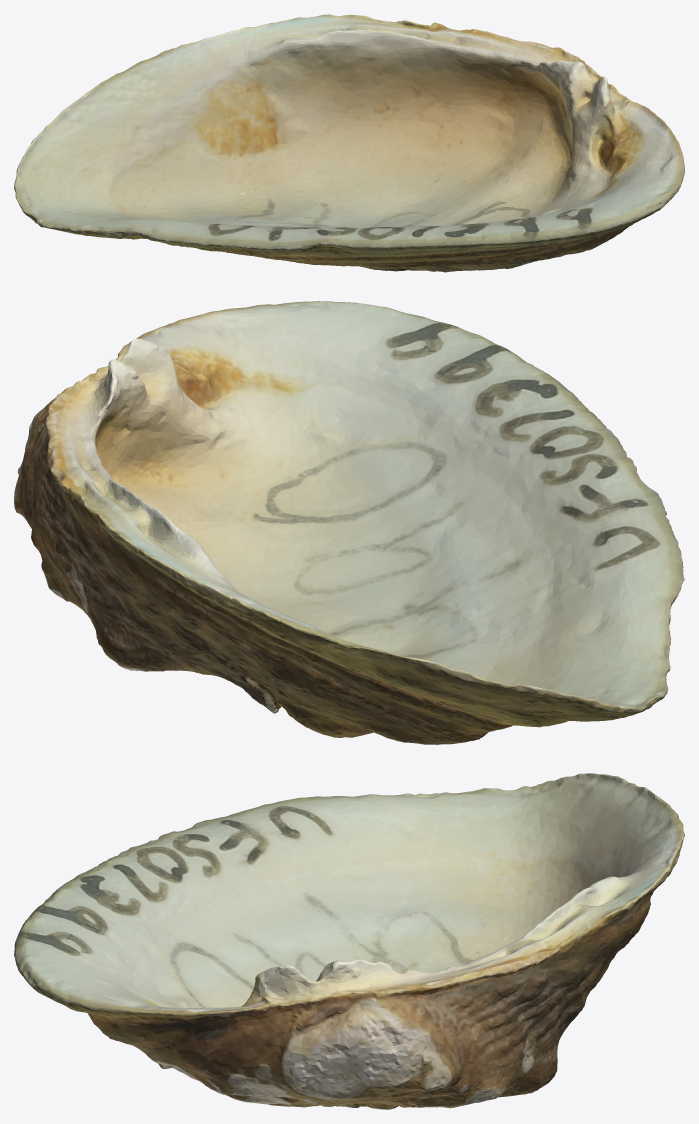
Rendered from UF_IZ_507399_object_reduced.obj.
3 views of the same model, one above another, from view 1: azimuth 30°, elevation 25°; view 2: azimuth 150°, elevation 25°; view 3: azimuth 270°, elevation 25° (orthographic). The views are drawn at different scales.
Visible parts, largest first — view 1: UF_IZ_507399_object_reduced; view 2: UF_IZ_507399_object_reduced; view 3: UF_IZ_507399_object_reduced.
Part boxes in pixels (box(x1,y1,x2,y2)): UF_IZ_507399_object_reduced: box(14, 14, 684, 272); UF_IZ_507399_object_reduced: box(14, 301, 684, 744); UF_IZ_507399_object_reduced: box(14, 773, 684, 1109).
Bounding box in the file's own units: 0.0174 × 0.00526 × 0.016.
